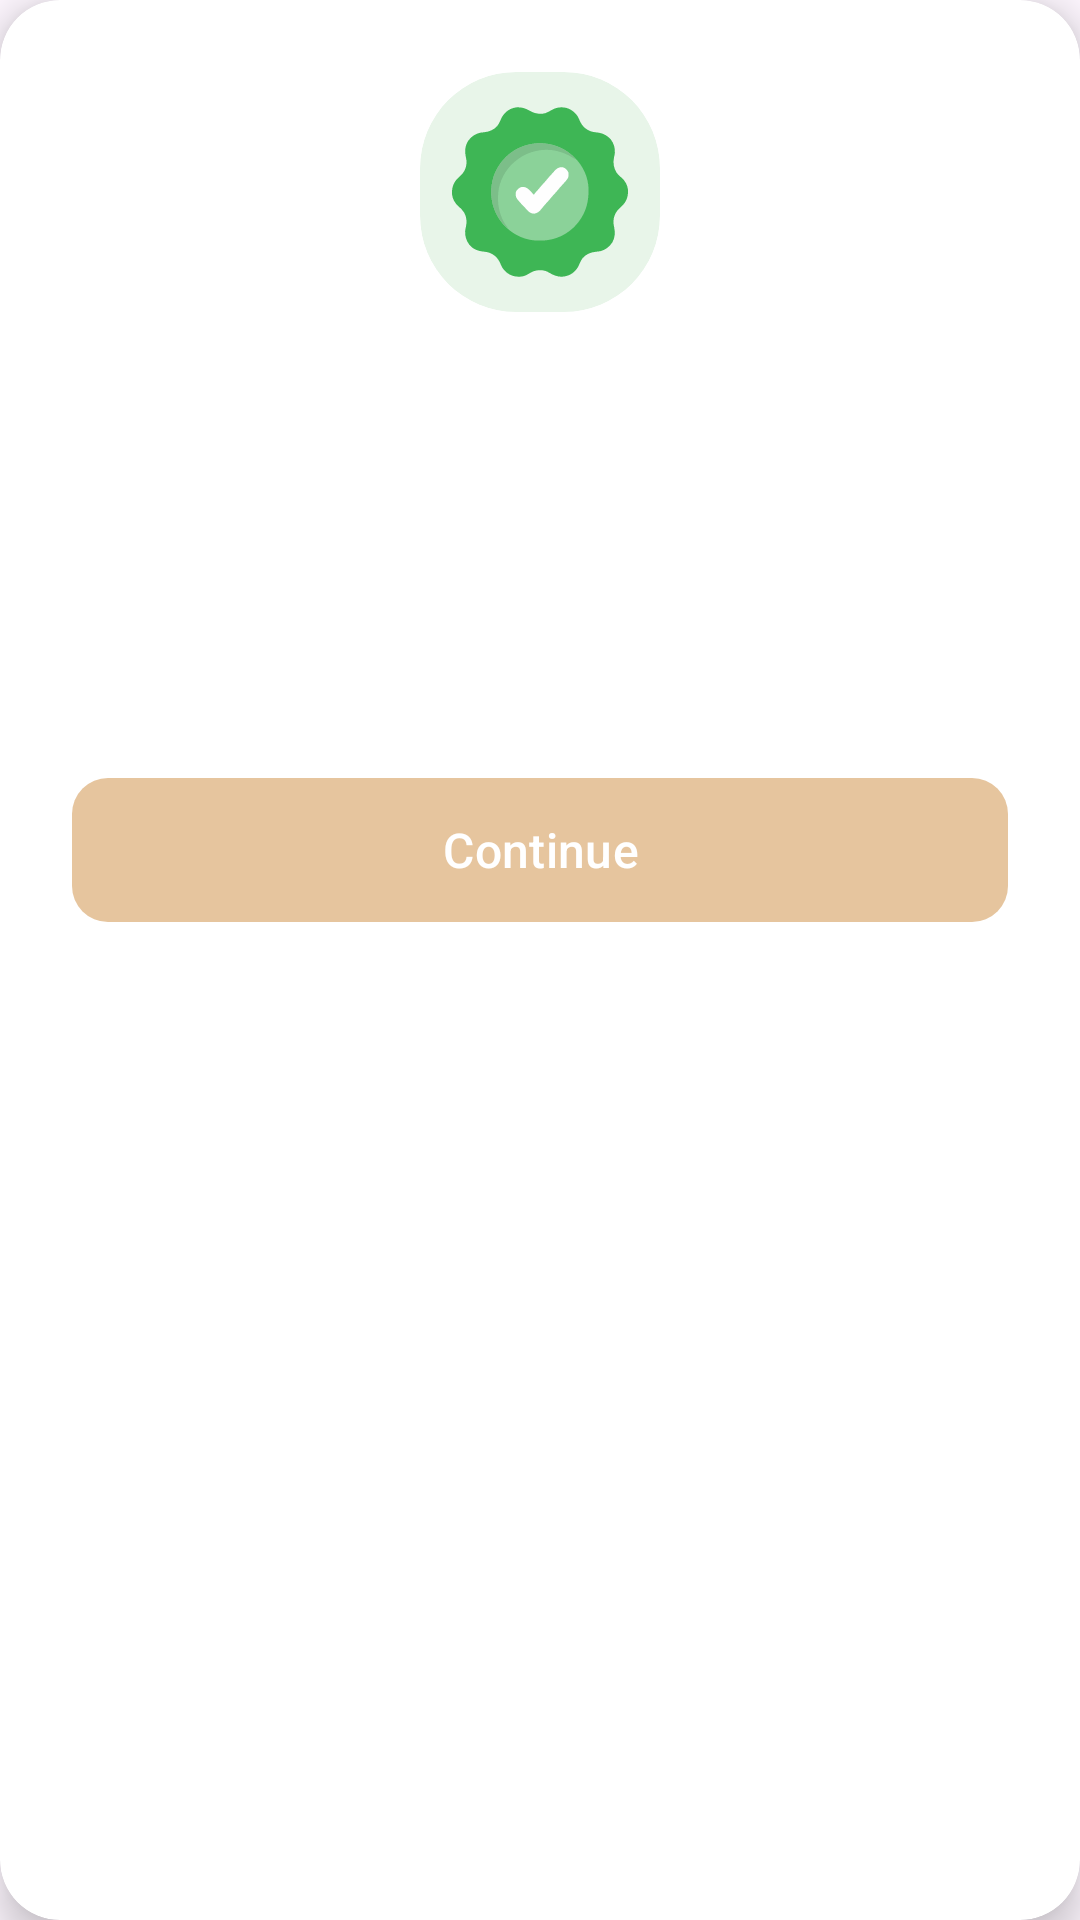

Screen size 1080px×1920px. Icon name, then its center in pixels as point (x, y):
check: point (540, 192)
